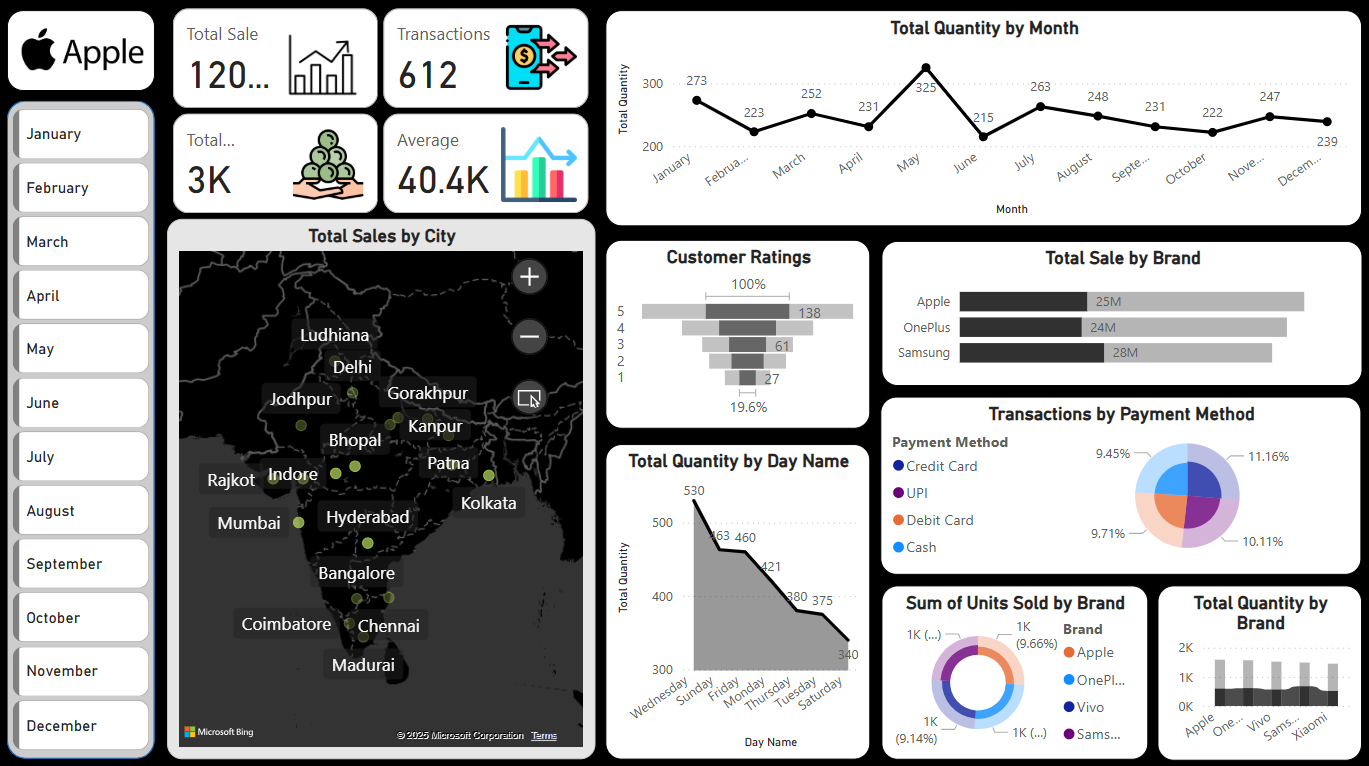

The page's visual inventory and layout, read from the dashboard file:
{"tool":"powerbi","page":{"name":"Page 1","canvas":[1280,720],"ordinal":0},"visuals":[{"type":"shape","box":[9.7,11.1,137.4,74.9],"z":0},{"type":"image","box":[17.6,16.4,123.3,63.4],"z":1000},{"type":"shape","box":[9.7,95.8,137.4,612],"z":2000},{"type":"advancedSlicerVisual","fields":{"Values":["Sheet1.Date.Variation.Date Hierarchy.Month"]},"box":[9.7,97.1,137.4,612],"z":3000},{"type":"cardVisual","fields":{"Data":["SALESDATA.sales_sum","SALESDATA.Transactions","SALESDATA.Total Quantity","SALESDATA.Average"]},"box":[158.1,4.1,407.7,201.3],"z":4000},{"type":"map","title":"Total Sales by City","fields":{"Category":["SALESDATA.City"]},"box":[158.2,205.4,398.3,502.4],"z":5000},{"type":"lineChart","fields":{"Category":["SALESDATA.Date.Variation.Date Hierarchy.Month","SALESDATA.Date.Variation.Date Hierarchy.Day"],"Y":["SALESDATA.Total Quantity"]},"box":[565.8,11.3,704.5,201.3],"z":6000},{"type":"clusteredBarChart","fields":{"Category":["SALESDATA.Brand"],"Y":["SALESDATA.Total Sale"]},"box":[822.2,226,447.8,134.8],"z":7000},{"type":"pieChart","fields":{"Category":["SALESDATA.Payment Method"],"Y":["SALESDATA.Transactions"]},"box":[821.8,371,447.3,165.5],"z":8000},{"type":"funnel","title":"Customer Ratings","fields":{"Category":["SALESDATA.Customer Ratings"],"Y":["CountNonNull(SALESDATA.Customer Ratings)"]},"box":[565.8,225.4,246.5,176.1],"z":9000},{"type":"areaChart","fields":{"Category":["SALESDATA.Day Name"],"Y":["SALESDATA.Total Quantity"]},"box":[565.8,414.4,246.5,293.5],"z":10000},{"type":"ribbonChart","fields":{"Category":["SALESDATA.Brand"],"Y":["SALESDATA.Total Quantity"]},"box":[1079.4,545.8,190.6,163.3],"z":11000},{"type":"donutChart","fields":{"Category":["SALESDATA.Brand"],"Y":["Sum(SALESDATA.Units Sold)"]},"box":[822.2,545.8,247.7,162],"z":12000}]}

Visuals, with their boxes in screenshot pixels (x1, y1, x2, y2), scaled from the page's 1280x720 canvas onto the 1369x766 screenshot:
shape: (left=10, top=12, right=157, bottom=91)
image: (left=19, top=17, right=151, bottom=85)
shape: (left=10, top=102, right=157, bottom=753)
advancedSlicerVisual - Sheet1.Date.Variation.Date Hierarchy.Month: (left=10, top=103, right=157, bottom=754)
cardVisual - SALESDATA.sales_sum x SALESDATA.Transactions: (left=169, top=4, right=605, bottom=219)
"Total Sales by City" map: (left=169, top=219, right=595, bottom=753)
lineChart - SALESDATA.Date.Variation.Date Hierarchy.Month x SALESDATA.Date.Variation.Date Hierarchy.Day: (left=605, top=12, right=1359, bottom=226)
clusteredBarChart - SALESDATA.Brand x SALESDATA.Total Sale: (left=879, top=240, right=1358, bottom=384)
pieChart - SALESDATA.Payment Method x SALESDATA.Transactions: (left=879, top=395, right=1357, bottom=571)
"Customer Ratings" funnel: (left=605, top=240, right=869, bottom=427)
areaChart - SALESDATA.Day Name x SALESDATA.Total Quantity: (left=605, top=441, right=869, bottom=753)
ribbonChart - SALESDATA.Brand x SALESDATA.Total Quantity: (left=1154, top=581, right=1358, bottom=754)
donutChart - SALESDATA.Brand x Sum(SALESDATA.Units Sold): (left=879, top=581, right=1144, bottom=753)
